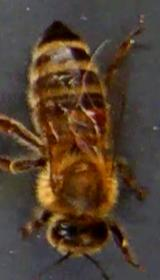varroa_mite: (78, 104, 108, 124)
